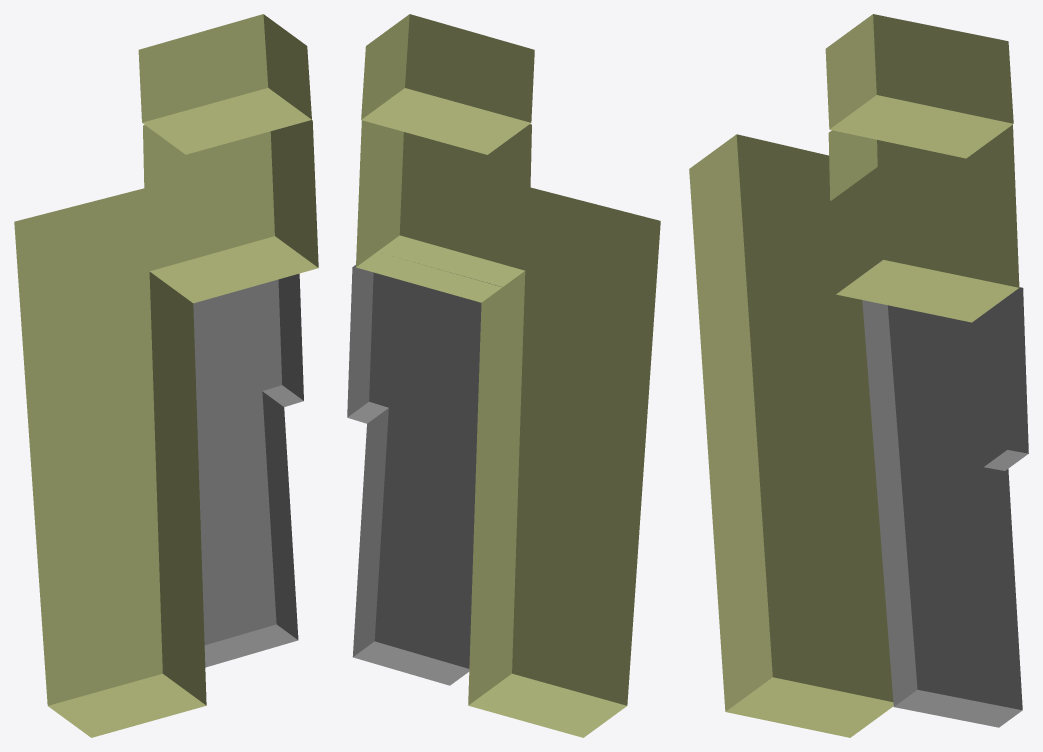
The picture shows the model from 3 angles, left to right: view 1: azimuth 30°, elevation 25°; view 2: azimuth 150°, elevation 25°; view 3: azimuth 330°, elevation 25°; orthographic projection. The views are drawn at different scales.
Visible parts, largest first — view 1: 0_1_0_0_2_2_0_2_1; view 2: 0_1_0_0_2_2_0_2_1; view 3: 0_1_0_0_2_2_0_2_1.
Boxes of the visible parts, left/top/right/bottom form: 0_1_0_0_2_2_0_2_1: left=14, top=14, right=318, bottom=737; 0_1_0_0_2_2_0_2_1: left=347, top=14, right=660, bottom=737; 0_1_0_0_2_2_0_2_1: left=689, top=14, right=1028, bottom=737.
Size of the model in its own units: 21.26 by 48.29 by 6.1.
